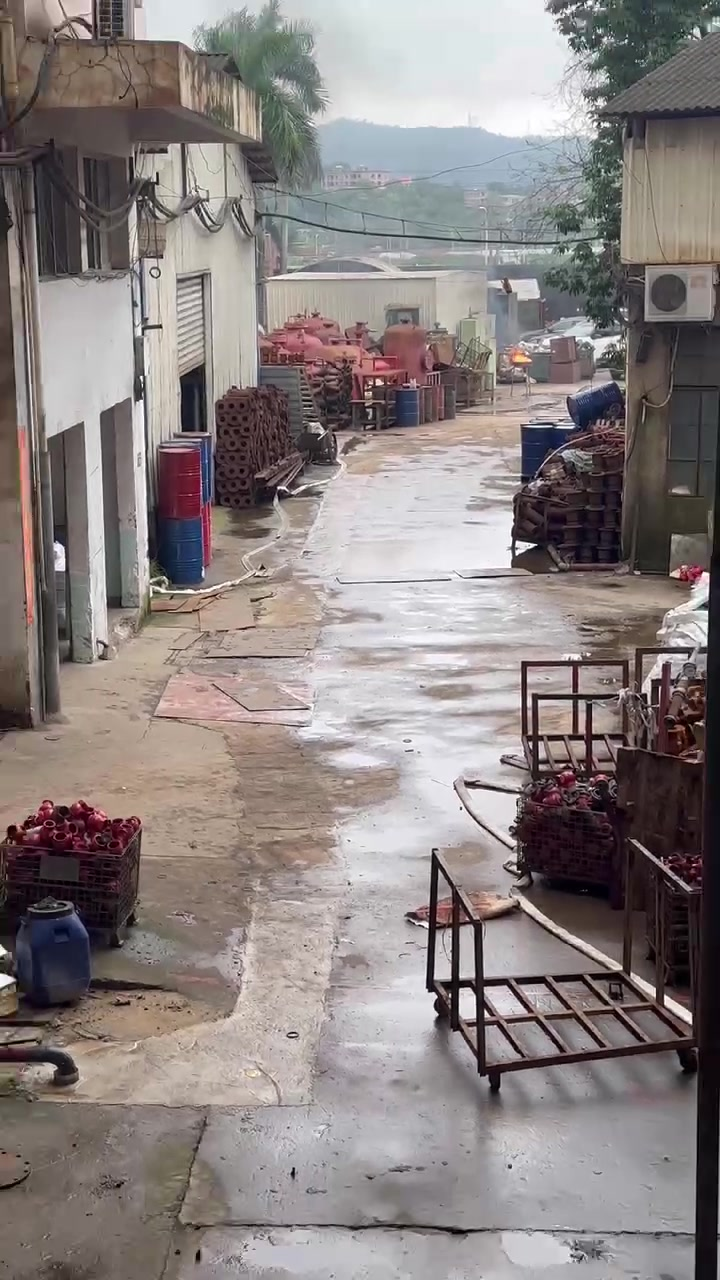fire: (511, 354, 532, 361)
